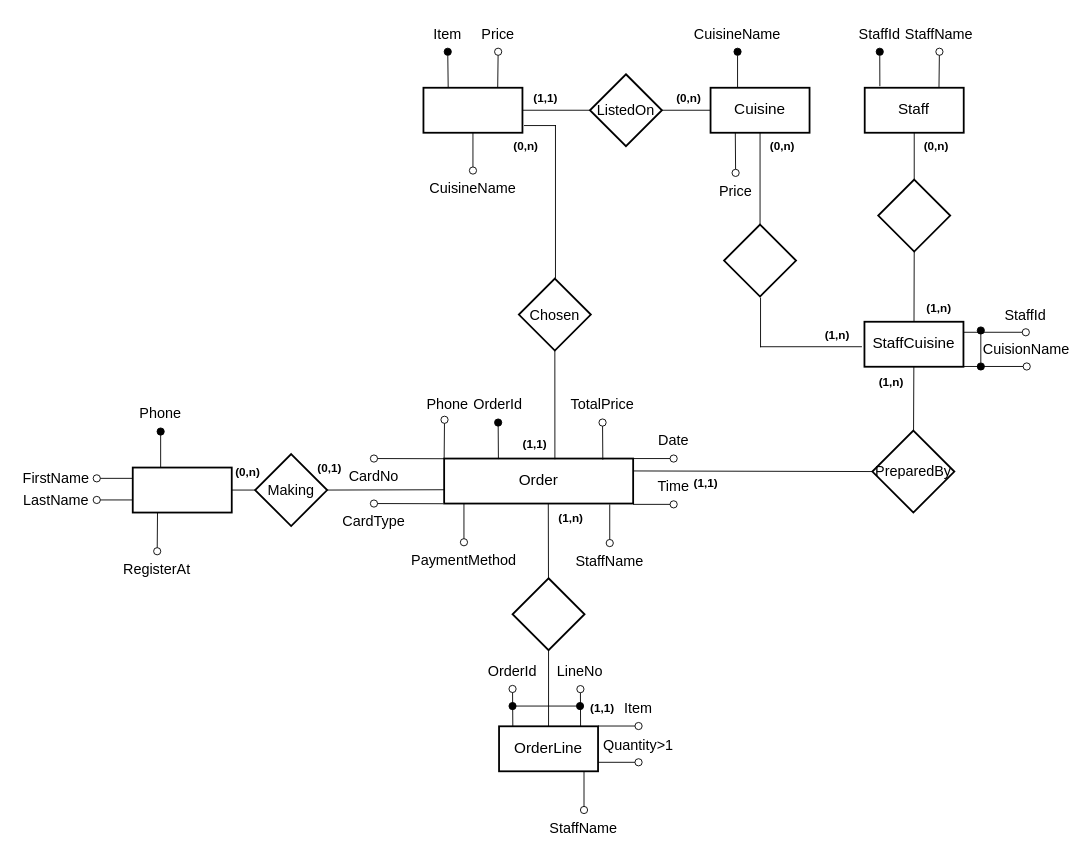
Image size: 1085x861. Some labels were removed from this diagram. The shapes that lost their labels are listed below. From the top down, each one's box as (x1, y1, x2, y2) in pixels, then its label:
(422, 86, 523, 133): Menu
(877, 178, 951, 252): Assigned
(723, 223, 796, 297): Cooked
(131, 466, 232, 513): Member
(511, 577, 585, 651): Including
